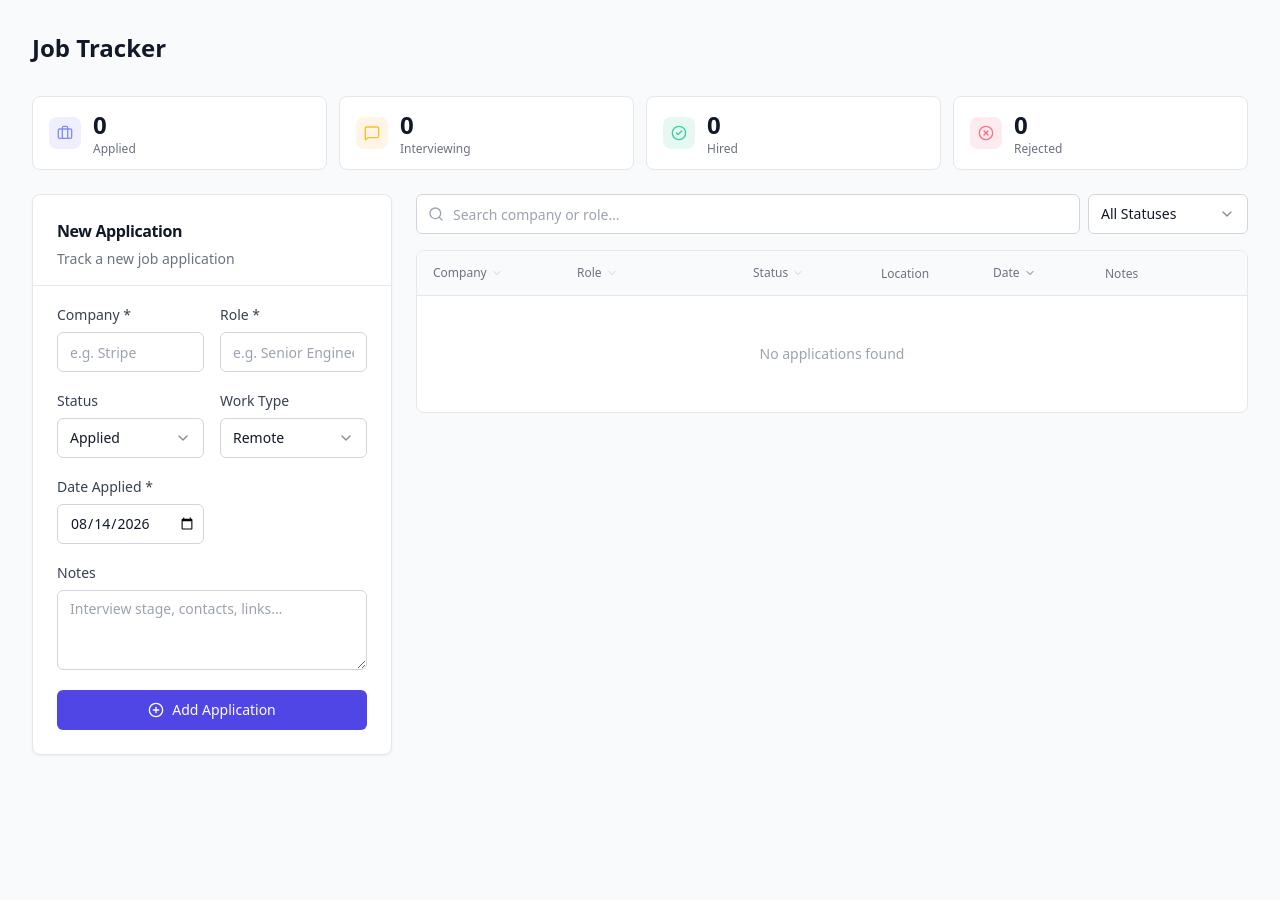
Test: App › shows an error message when saving a new application fails
This screenshot has width=1280, height=900.
Type "Acme" into the field with placeholder "e.g. Stripe".
click(130, 352); type("Acme")  # box [57, 332, 204, 372]
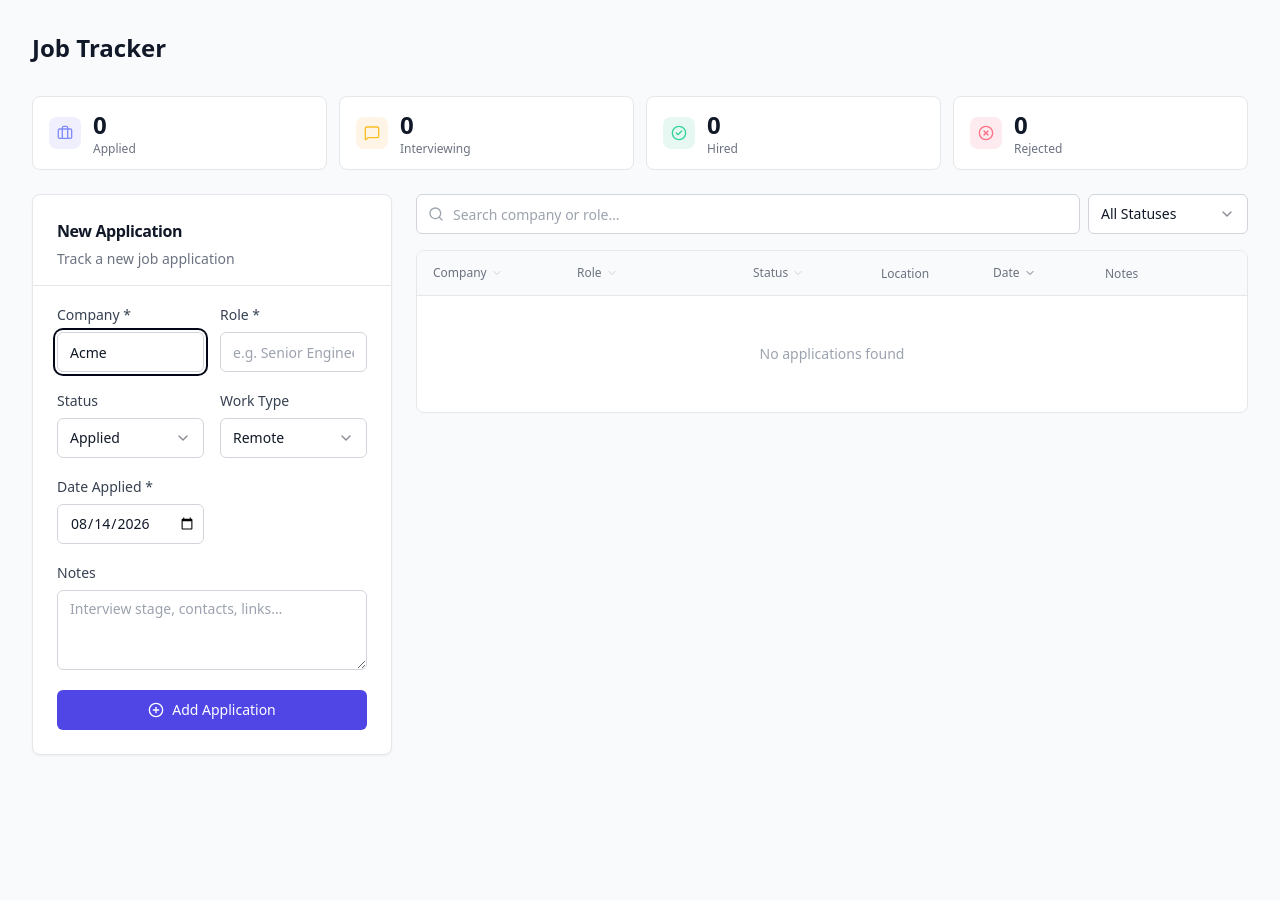
Type "Engineer" into the field with placeholder "e.g. Senior Engineer".
click(294, 352); type("Engineer")  # box [220, 332, 367, 372]
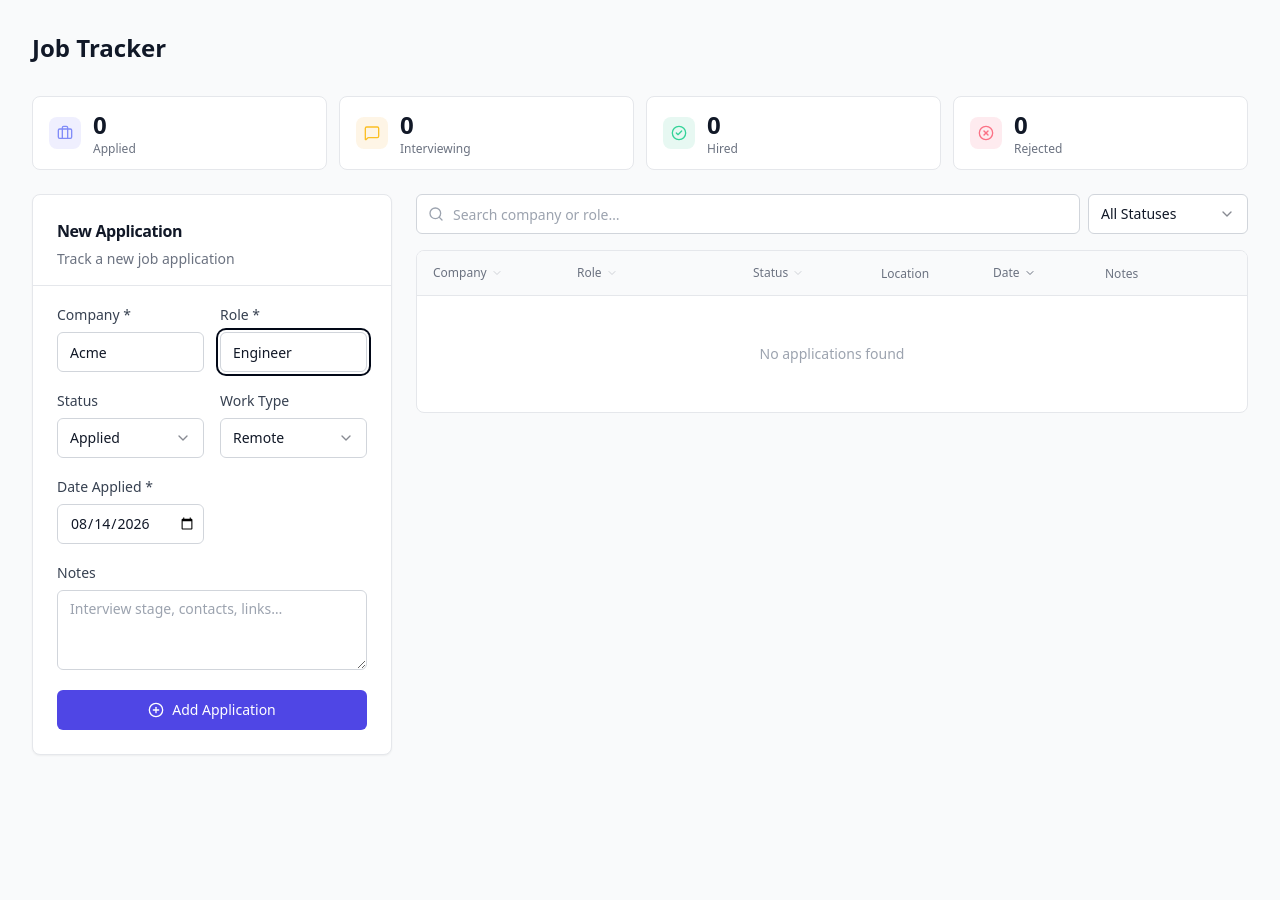
Click the button "Add Application".
click(212, 710)  # box [57, 690, 367, 730]
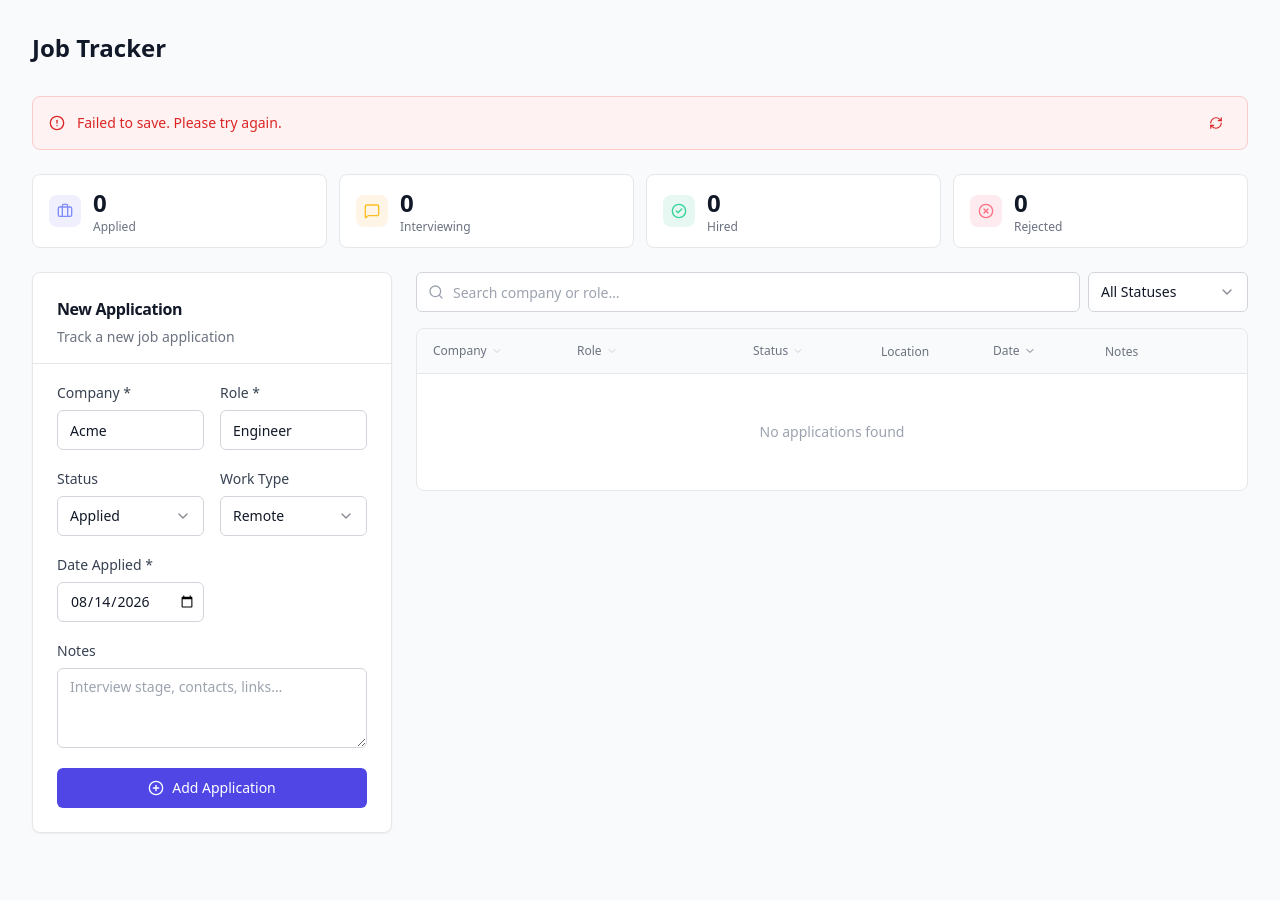
Check: the text "Failed to save. Please try again." is shown, box [77, 113, 282, 132]
